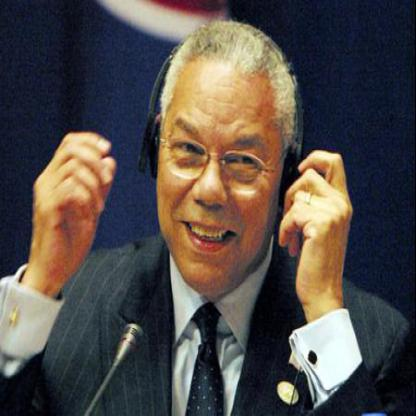face: (159, 26, 287, 296)
